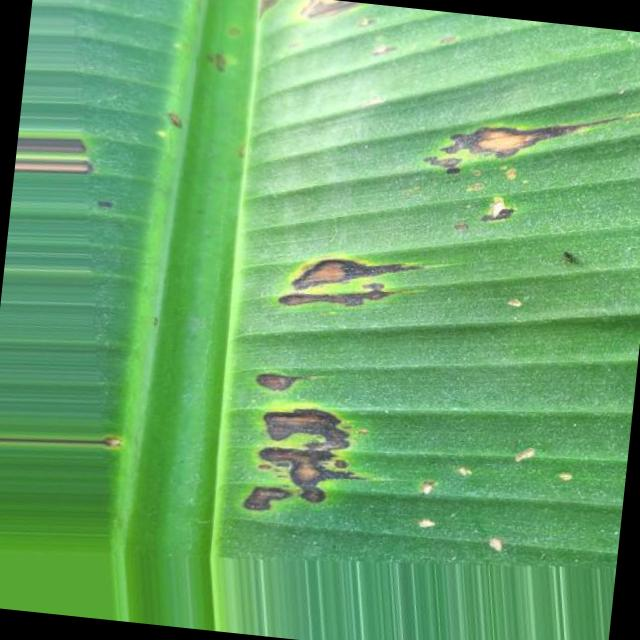Banana_Black_Sigatoka: (205, 198, 427, 572), (397, 50, 640, 242), (10, 70, 111, 216), (252, 0, 426, 45)
